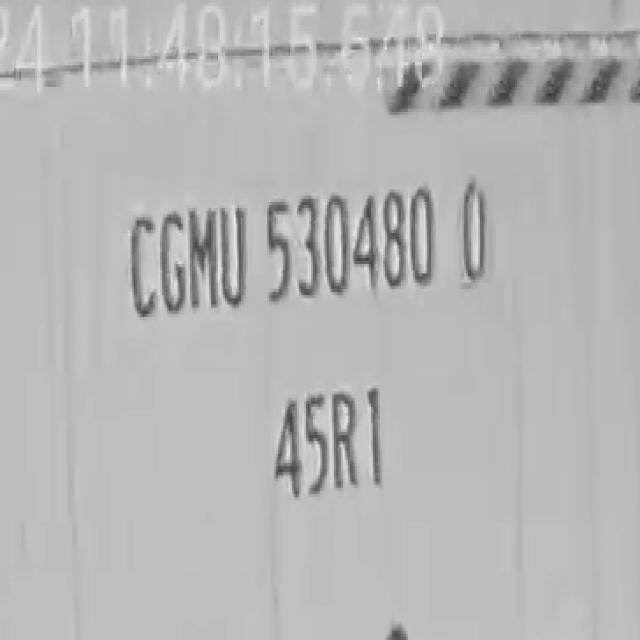dv: (458, 169, 498, 308)
owner: (125, 188, 248, 328)
serial: (258, 173, 438, 316)
size: (262, 347, 388, 504)
